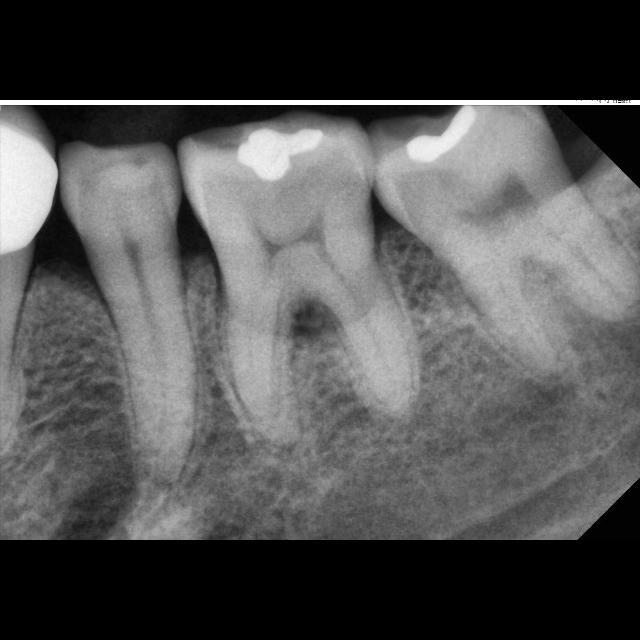tooth: (60, 142, 196, 482)
